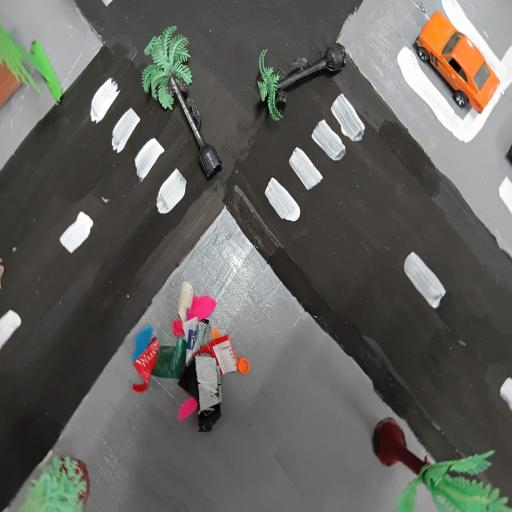fallen trees: (128, 21, 224, 187), (250, 38, 362, 125)
trash: (129, 274, 256, 454)
